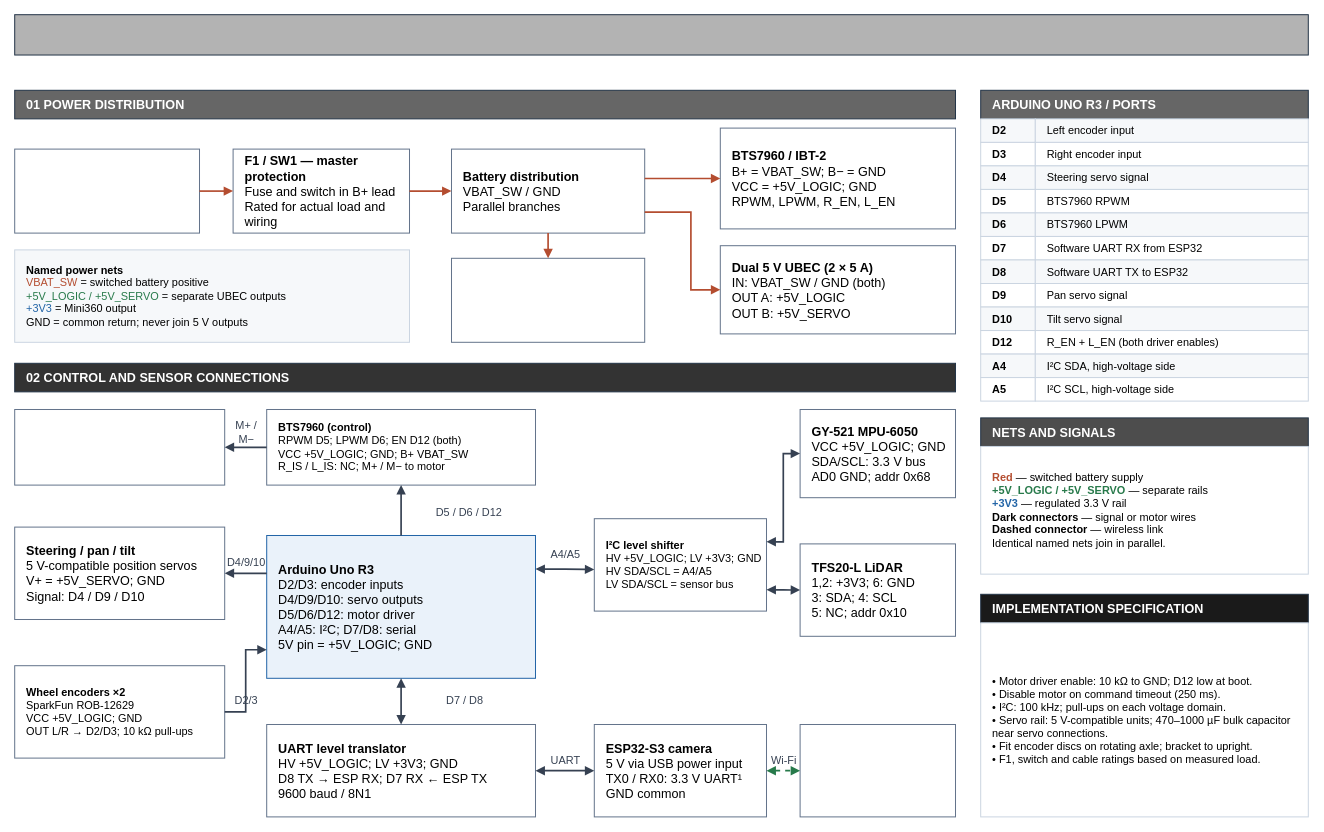
This 1324x832 diagram has some shape labels left out. The shapes that lost their labels are listed below. From the top down, each one's box as (x1, y1, x2, y2) in pixels, then its label:
(14, 14, 1308, 55): TERRAINTRACK / ELECTRICAL WIRING
(14, 148, 200, 233): 2S RC battery 7.4 V nominal / 8.4 V full B+ / B−
(451, 257, 645, 342): Mini360 fixed 3.3 V IN: VBAT_SW / GND OUT: +3V3 / GND
(14, 409, 225, 485): Rear brushed drive motor M+ / M− from BTS7960 Original drivetrain retained
(799, 724, 956, 817): MacBook Video / commands Vision + navigation
